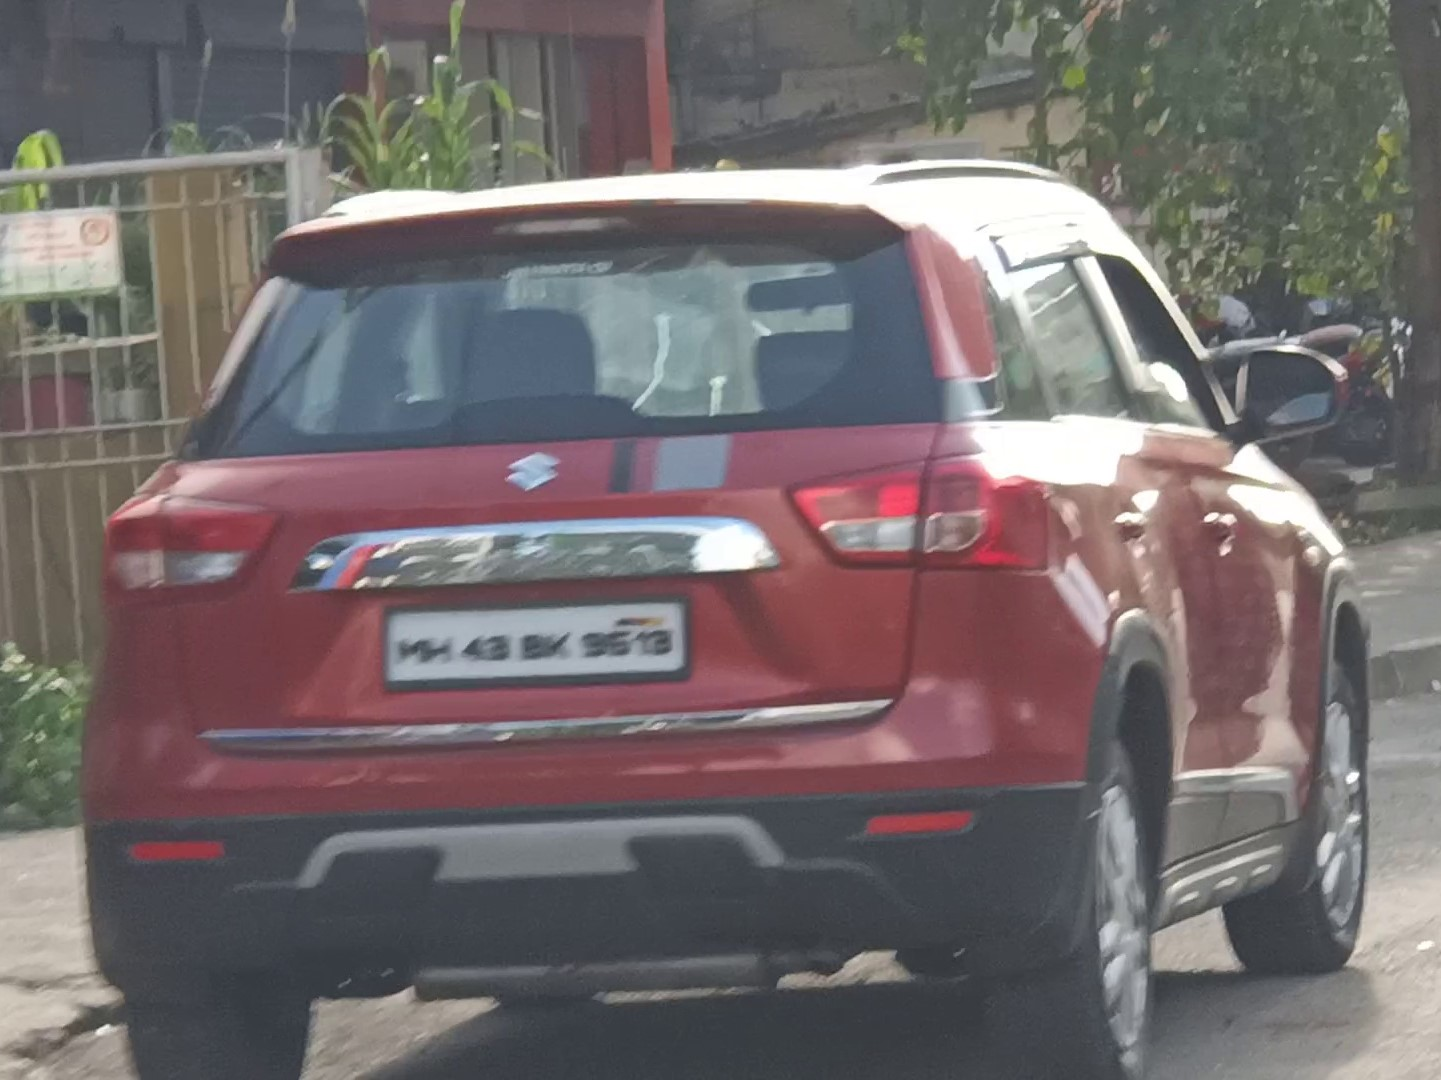MH43BK9513: (386, 603, 684, 673)
